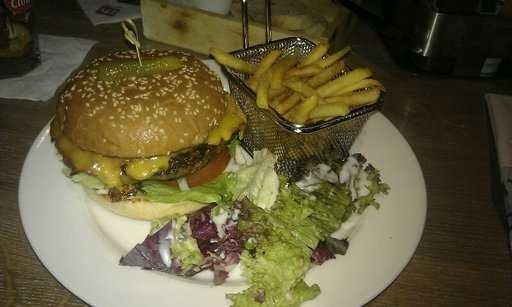hamburger: (53, 32, 212, 222)
